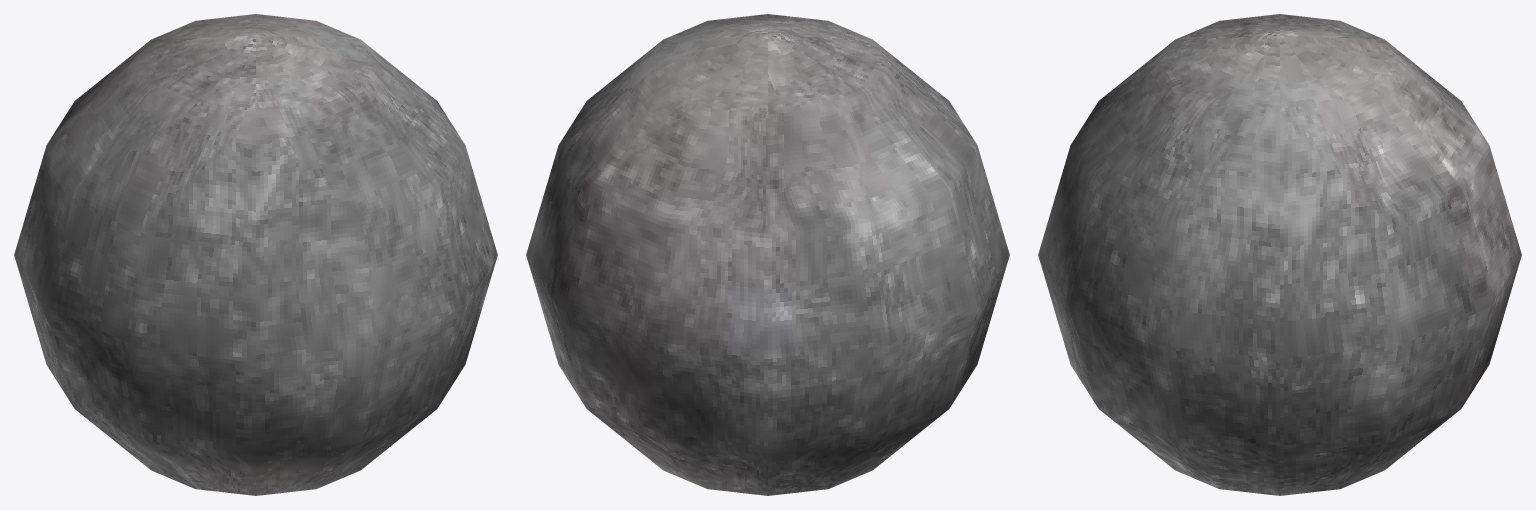
File: moon.glb
3 renders of one model, left to right at view 1: azimuth 30°, elevation 25°; view 2: azimuth 150°, elevation 25°; view 3: azimuth 270°, elevation 25°, orthographic.
Parts seen in each view (by area): view 1: Sphere; view 2: Sphere; view 3: Sphere.
Part boxes in pixels (bbox=[...]): Sphere: bbox=[14, 14, 497, 495]; Sphere: bbox=[526, 14, 1009, 495]; Sphere: bbox=[1038, 14, 1521, 495].
Bounding box in the file's own units: 397 × 397 × 397.
Materials: 1 (1 with a texture image).
